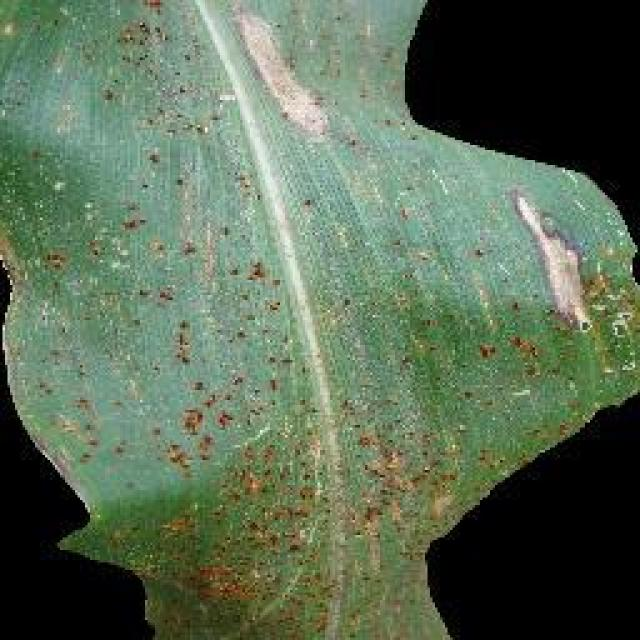Corn Common Rust: (43, 155, 562, 597)
